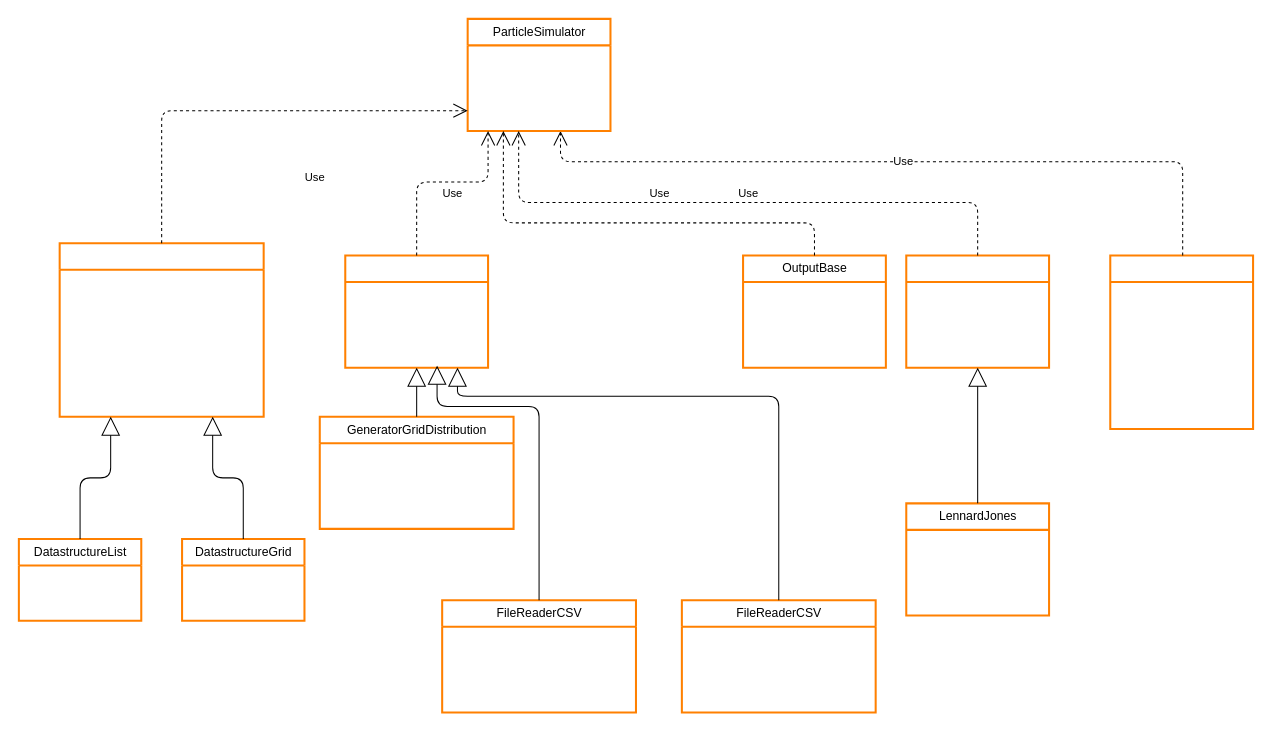
Image size: 1271x730. Some labels were removed from this diagram. The shapes that lost their labels are listed below. From the top down, each one's centre as x and y in pixels, then its label:
At [161,329]: "DatastructureBase".
At [416,311]: "InputBase".
At [977,311]: "AlgoritmBase".
At [1181,341]: "s_options".
